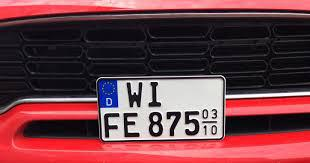5: (182, 110, 201, 135)
7: (165, 110, 183, 137)
8: (145, 110, 163, 137)
E: (122, 111, 142, 138)
F: (101, 111, 121, 138)
I: (146, 82, 163, 107)
W: (124, 82, 145, 108)
